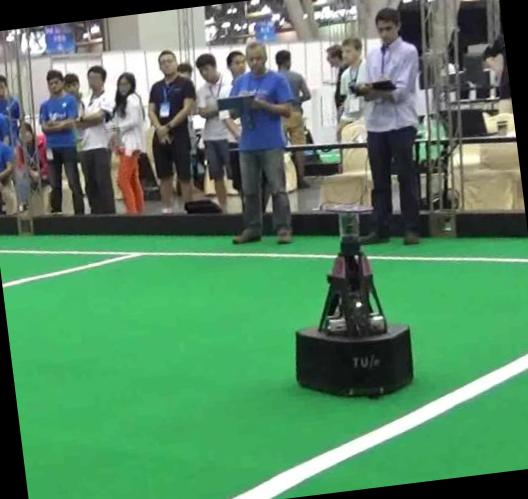person: (353, 7, 419, 243), (230, 42, 292, 243)
robot: (296, 208, 412, 395)
